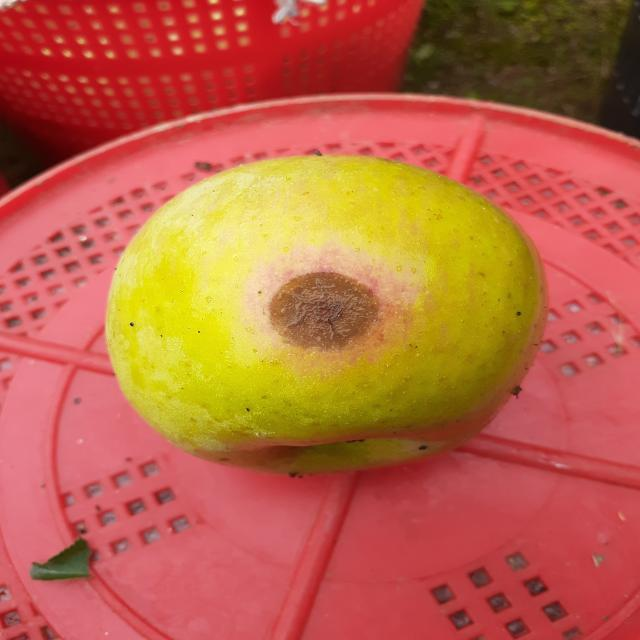rotten: (98, 147, 556, 487)
